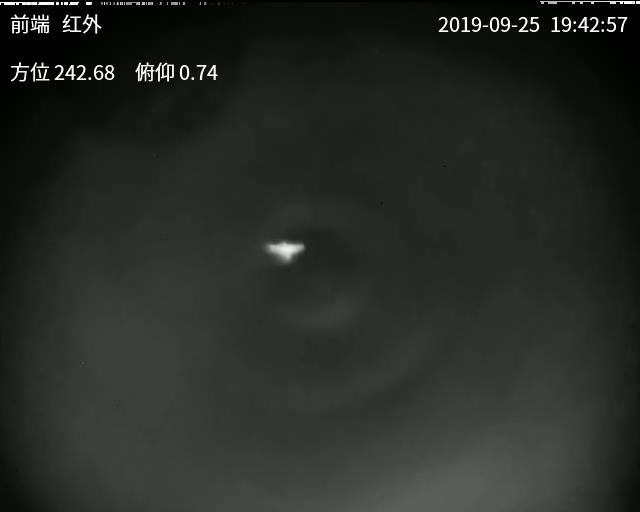uav: (262, 233, 303, 260)
